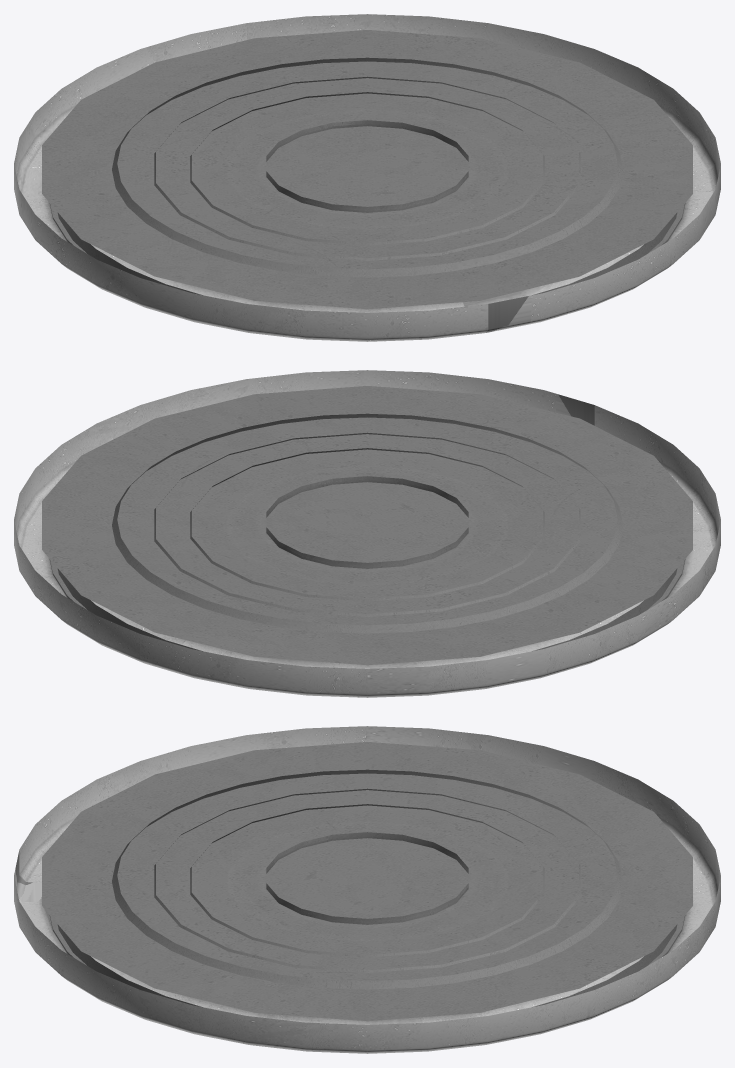
Rendered from SM_CeilingVent_Round_01.fbx.
3 views of the same model, one above another, from view 1: azimuth 30°, elevation 25°; view 2: azimuth 150°, elevation 25°; view 3: azimuth 270°, elevation 25° (orthographic).
Parts seen in each view (by area): view 1: SM_CeilingVent_Round_01_LOD0; view 2: SM_CeilingVent_Round_01_LOD0; view 3: SM_CeilingVent_Round_01_LOD0.
Part boxes in pixels (<box>): SM_CeilingVent_Round_01_LOD0: <box>14,14,720,341</box>; SM_CeilingVent_Round_01_LOD0: <box>14,370,720,697</box>; SM_CeilingVent_Round_01_LOD0: <box>14,726,720,1053</box>.
Bounding box in the file's own units: 53.29 × 53.29 × 3.
